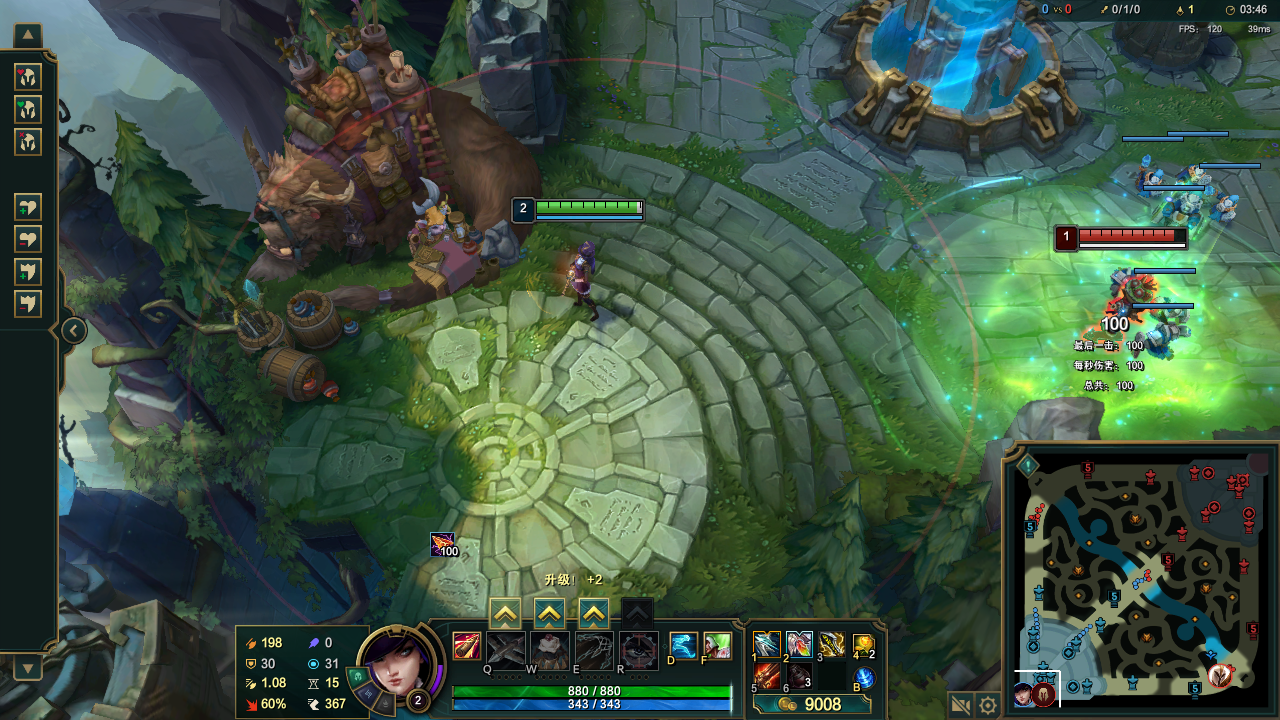DFYX: (1078, 227, 1185, 243)
